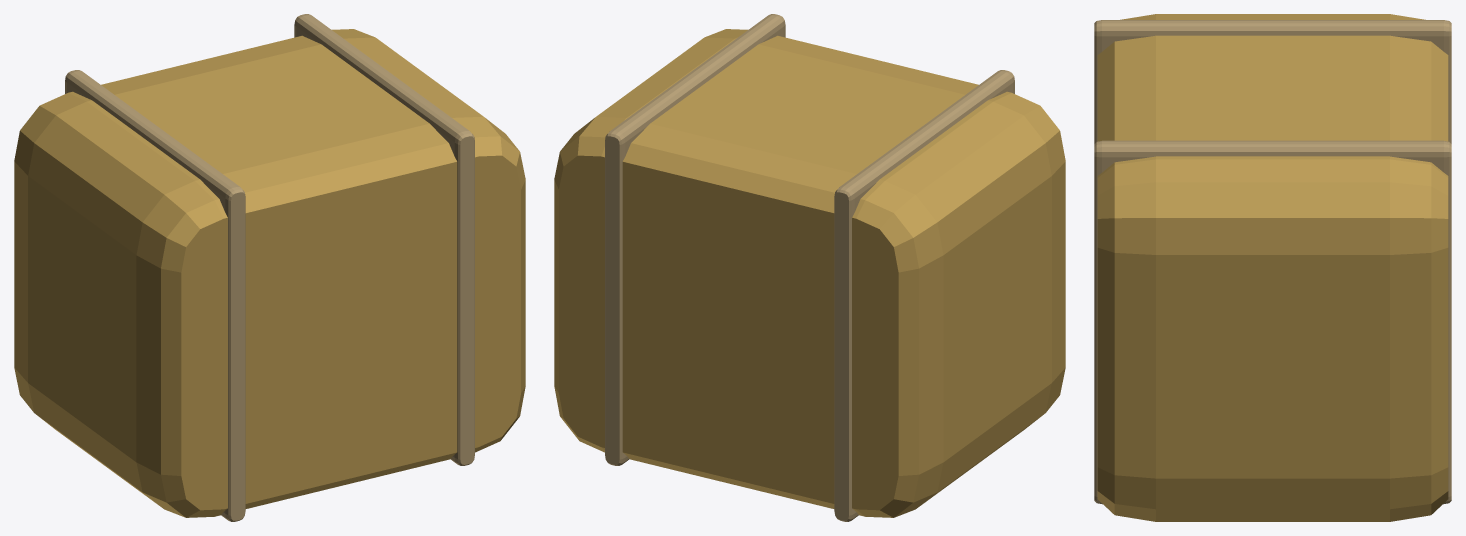
File: hay-bale.glb
The picture shows the model from 3 angles, left to right: view 1: azimuth 30°, elevation 25°; view 2: azimuth 150°, elevation 25°; view 3: azimuth 270°, elevation 25°; orthographic projection. The views are drawn at different scales.
Visible parts, largest first — view 1: shell; view 2: shell; view 3: shell.
Part boxes in pixels (x1,y1,x2,y2): shell: (14, 14, 525, 521); shell: (554, 14, 1065, 521); shell: (1094, 14, 1451, 521).
Size of the model in its own units: 0.72 by 0.615 by 0.55.
